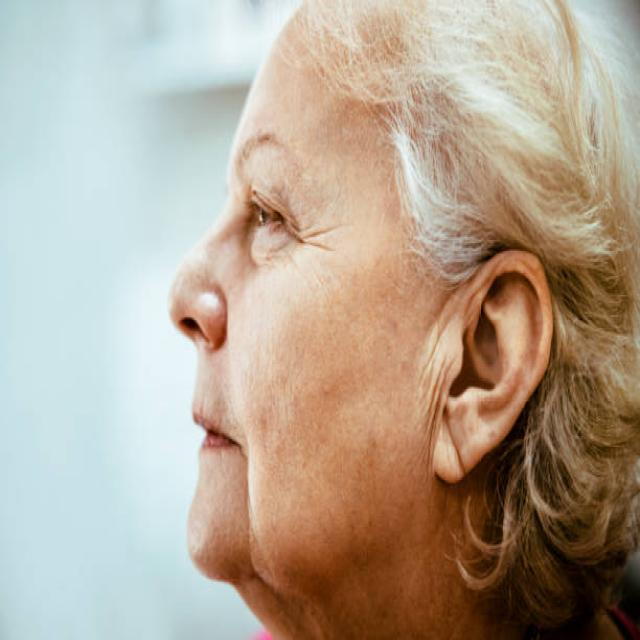Dry-Skin: (236, 273, 427, 491)
